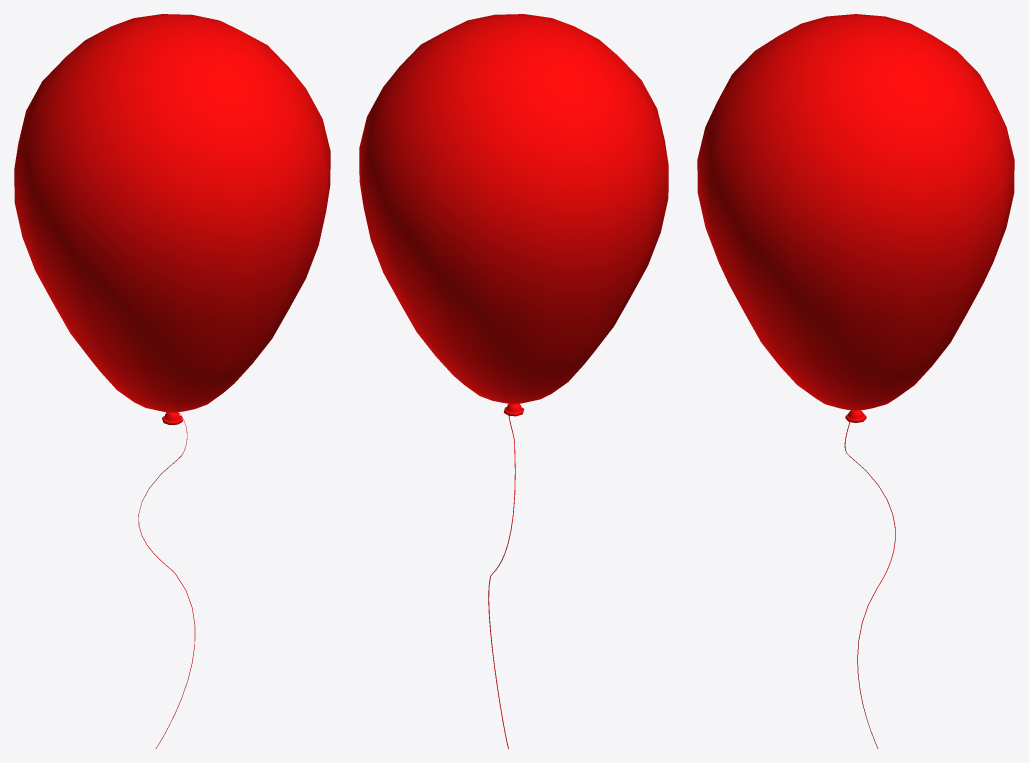
Rendered from red_balloon.fbx.
3 renders of one model, left to right at view 1: azimuth 30°, elevation 25°; view 2: azimuth 150°, elevation 25°; view 3: azimuth 270°, elevation 25°, orthographic. The views are drawn at different scales.
Visible parts, largest first — view 1: Balloon.007; view 2: Balloon.007; view 3: Balloon.007.
Part boxes in pixels (x1,y1,x2,y2): Balloon.007: (14, 14, 330, 748); Balloon.007: (359, 14, 668, 748); Balloon.007: (697, 14, 1014, 748).
Bounding box in the file's own units: 26.48 × 66.4 × 26.48.
